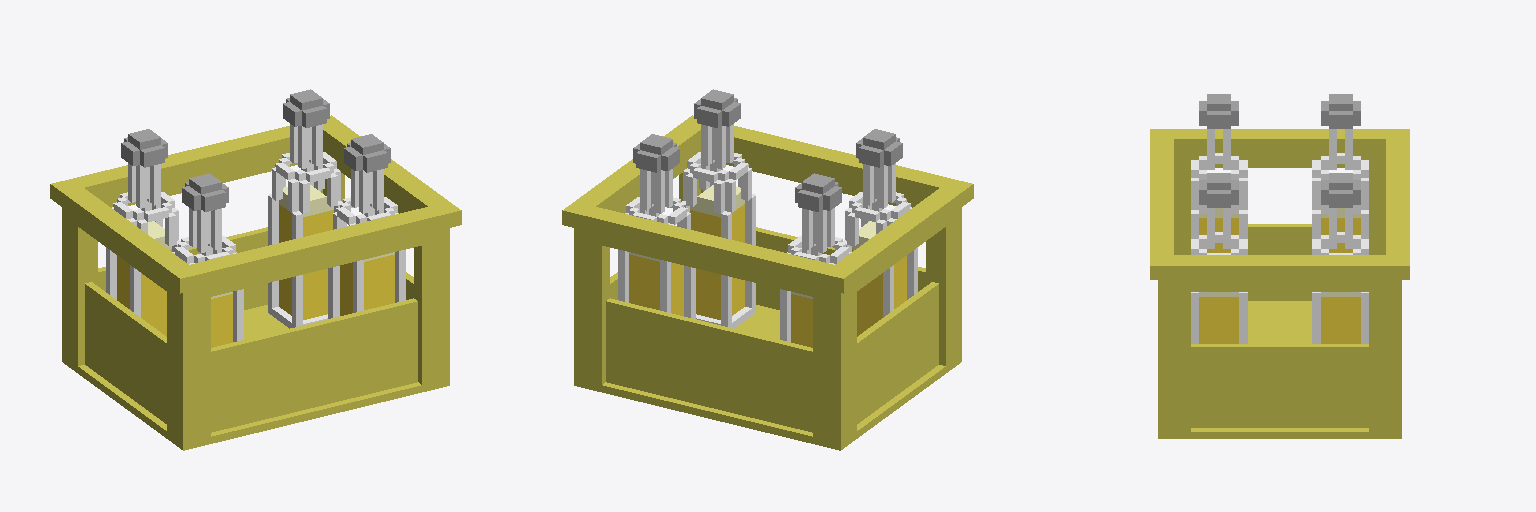
3 renders of one model, left to right at view 1: azimuth 30°, elevation 25°; view 2: azimuth 150°, elevation 25°; view 3: azimuth 270°, elevation 25°, orthographic.
Visible parts, largest first — view 1: object 1; view 2: object 1; view 3: object 1.
Part boxes in pixels (x1,y1,x2,y2): object 1: (50,89,461,450); object 1: (562,89,973,450); object 1: (1150,94,1409,438).
Bounding box in the file's own units: 4 × 3.2 × 3.2.
1 materials, 1 textured.